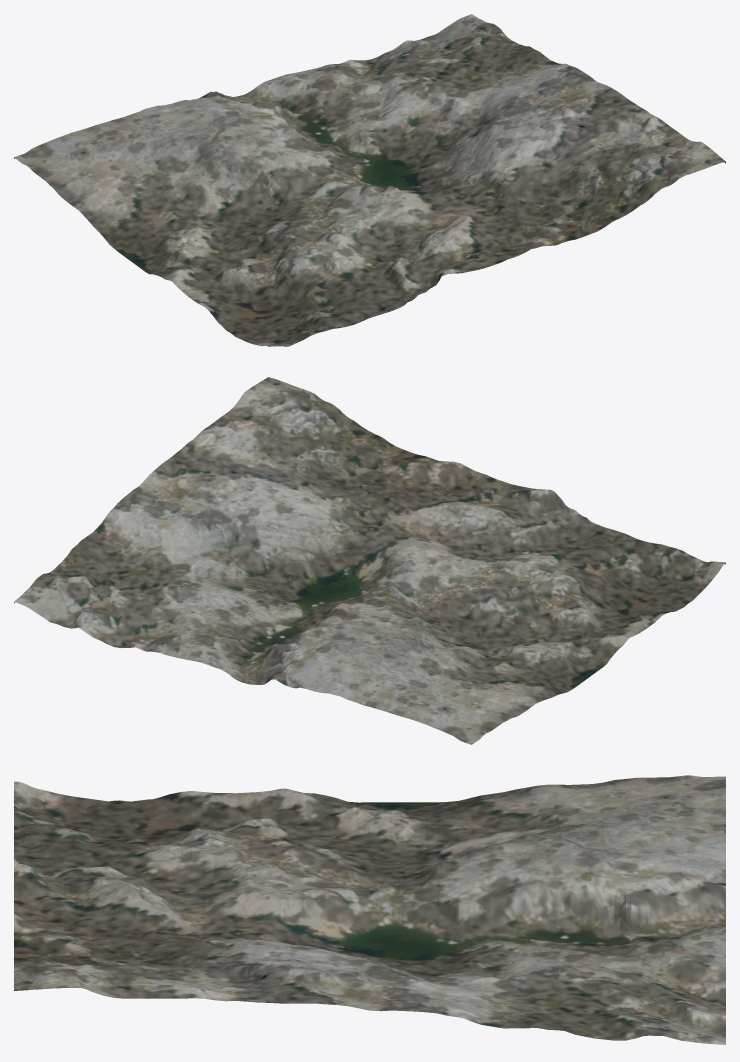
3 views of the same model, one above another, from view 1: azimuth 30°, elevation 25°; view 2: azimuth 150°, elevation 25°; view 3: azimuth 270°, elevation 25° (orthographic). The views are drawn at different scales.
Size of the model in its own units: 250 by 48.4 by 241.
Materials: 1 (1 with a texture image).
